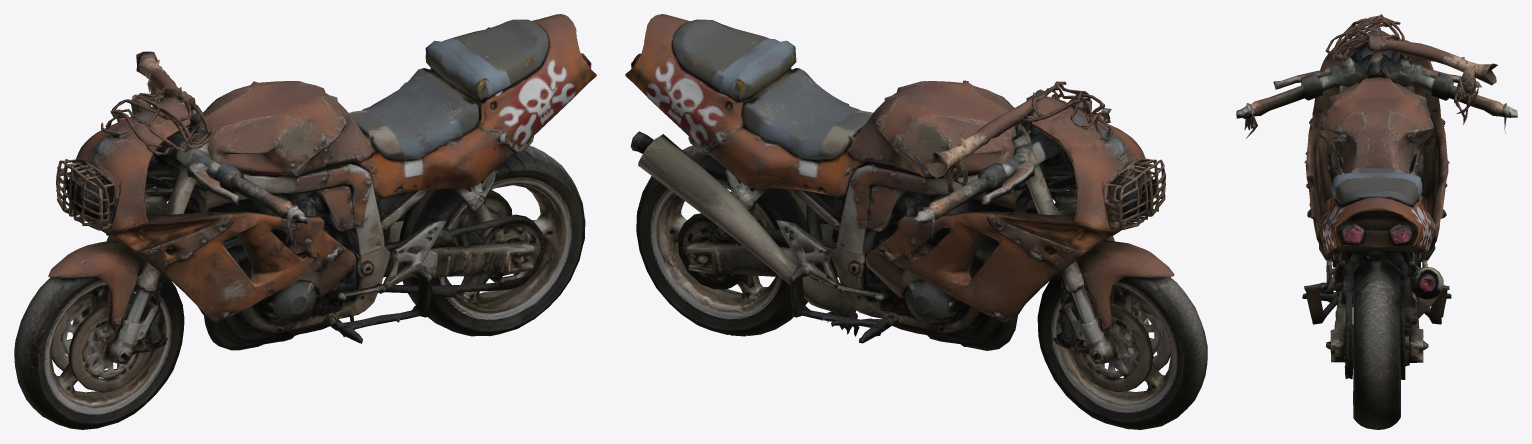
The model's file is Rust_Baron_Bike.glb.
3 renders of one model, left to right at view 1: azimuth 30°, elevation 25°; view 2: azimuth 150°, elevation 25°; view 3: azimuth 270°, elevation 25°, orthographic. The views are drawn at different scales.
Visible parts, largest first — view 1: tripo_node_ff61ddb5-7d0e-4572-b8c4-303a2699d080; view 2: tripo_node_ff61ddb5-7d0e-4572-b8c4-303a2699d080; view 3: tripo_node_ff61ddb5-7d0e-4572-b8c4-303a2699d080.
Part boxes in pixels (x1,y1,x2,y2): tripo_node_ff61ddb5-7d0e-4572-b8c4-303a2699d080: (14,14,596,429); tripo_node_ff61ddb5-7d0e-4572-b8c4-303a2699d080: (625,14,1207,429); tripo_node_ff61ddb5-7d0e-4572-b8c4-303a2699d080: (1236,14,1517,429).
Bounding box in the file's own units: 1 × 0.5335 × 0.521.
1 material, 1 textured.
